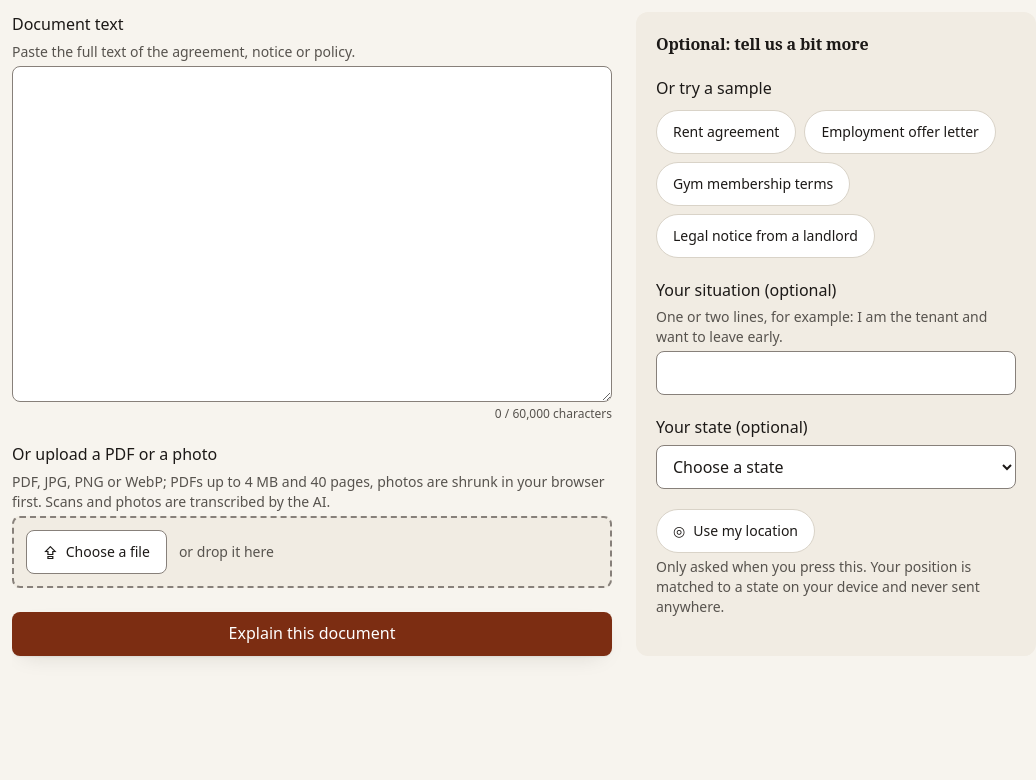
it: DocumentForm › blocks an empty submission with an announced error and no axe violations
The width and height of the screenshot is (1036, 780).
Click the button "Explain this document".
click(312, 634)  # box [12,612,612,656]
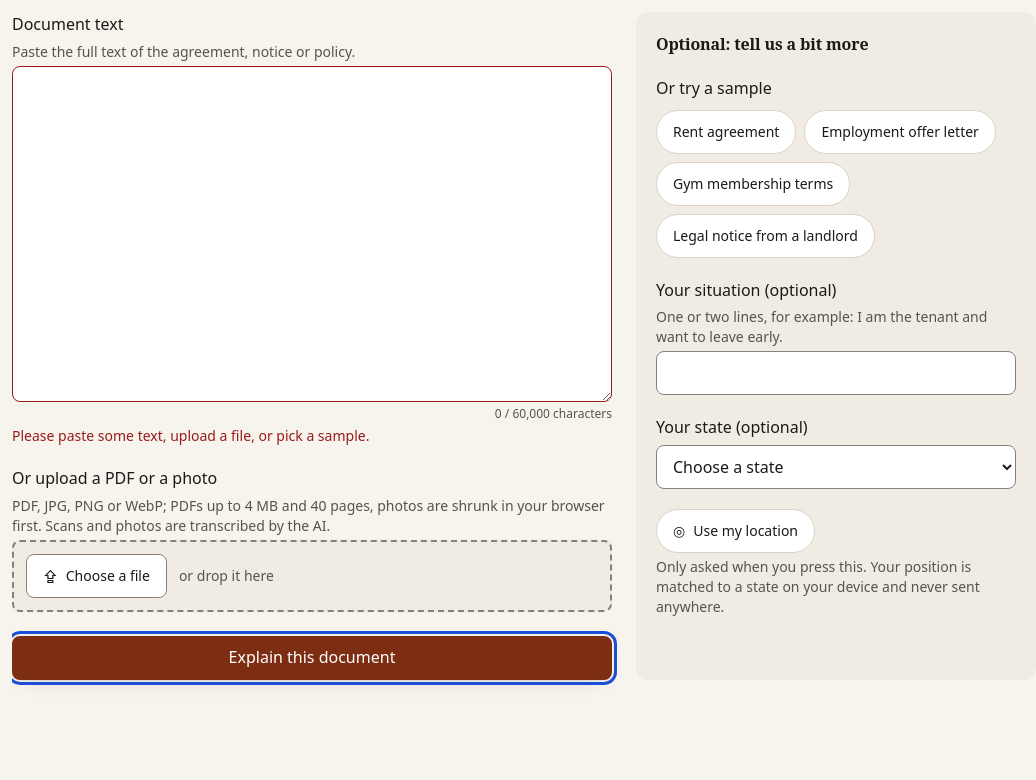
Expected: the message shows "Please paste some text", [12,426,369,445]
